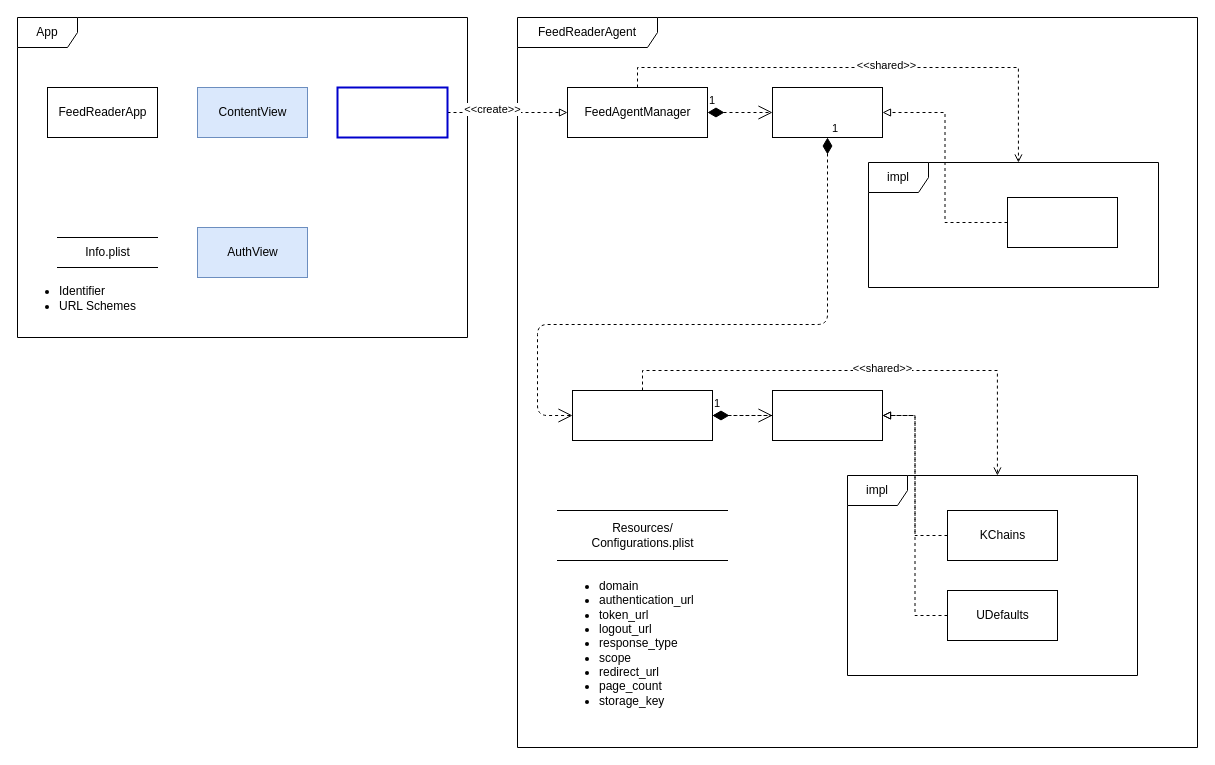
The diagram is 1215 pixels wide and 765 high, and some of its shapes have lost their labels. Each missing label, with the centre of its shape:
<<ViewModel>> ContentsState: pixel 392 112
Agent: pixel 827 112
Feedly: pixel 1062 222
Storage: pixel 827 415
StorageManager: pixel 642 415
